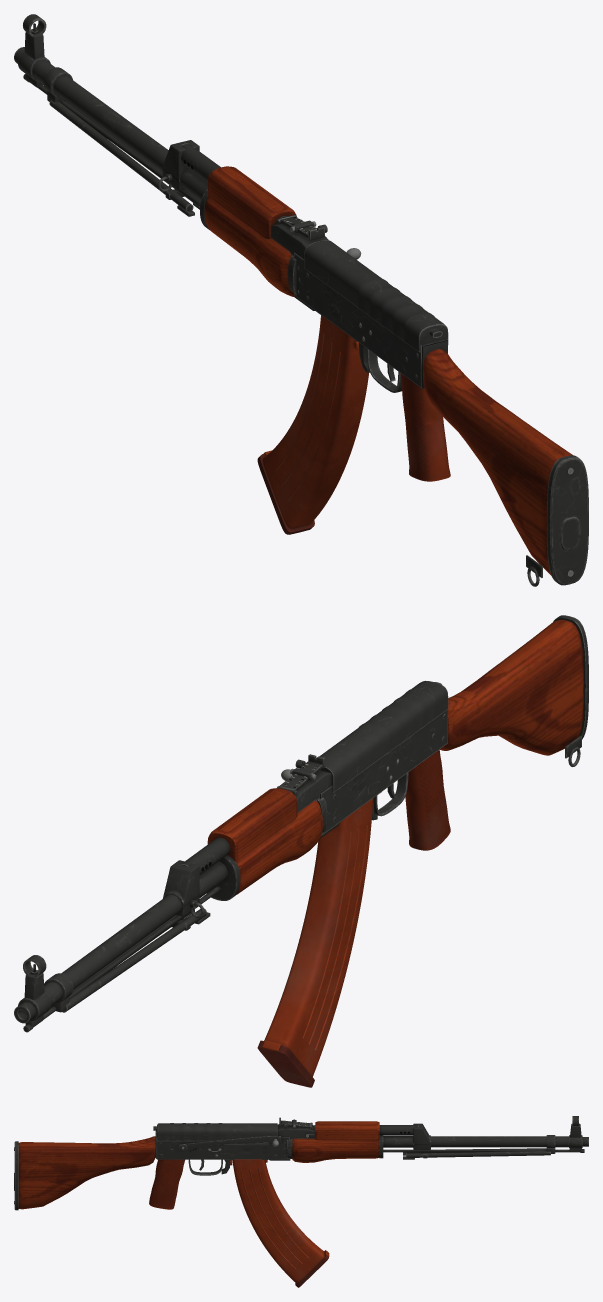
File: rpk.glb
The picture shows the model from 3 angles, top to bottom: view 1: azimuth 30°, elevation 25°; view 2: azimuth 150°, elevation 25°; view 3: azimuth 270°, elevation 25°; orthographic projection. The views are drawn at different scales.
Visible parts, largest first — view 1: rpk_body, mag; view 2: rpk_body, mag; view 3: rpk_body, mag.
Boxes of the visible parts, left/top/right/bottom form: rpk_body: left=14, top=14, right=588, bottom=586; mag: left=257, top=315, right=368, bottom=534; rpk_body: left=14, top=615, right=588, bottom=1032; mag: left=257, top=798, right=373, bottom=1087; rpk_body: left=14, top=1116, right=588, bottom=1210; mag: left=230, top=1159, right=329, bottom=1287.
Size of the model in its own units: 0.0687 by 0.3377 by 1.04.
1 material, 1 textured.
